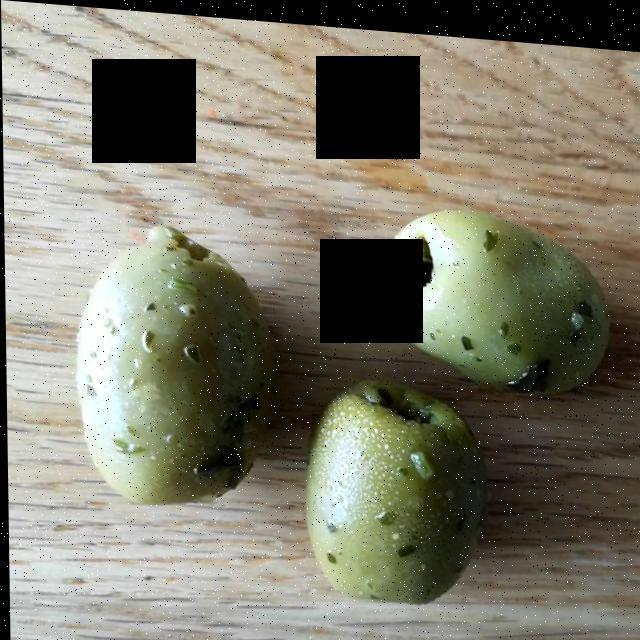green-olives: (81, 207, 612, 600)
